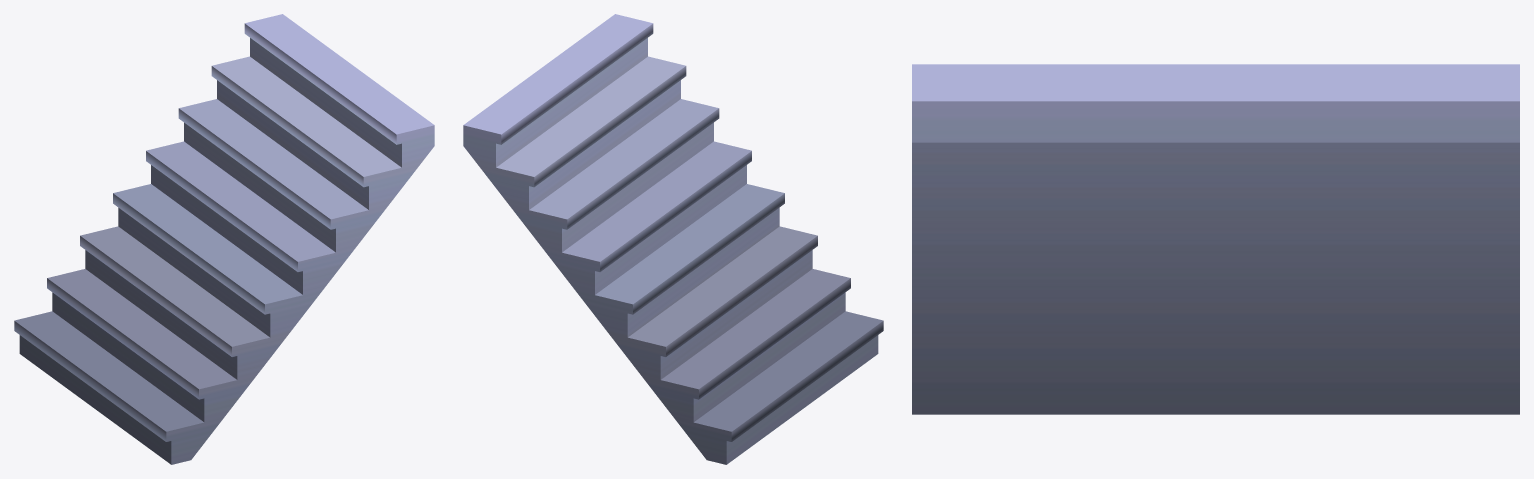
Rendered from stairs-wide-stone.glb.
3 views of the same model, side by side, from view 1: azimuth 30°, elevation 25°; view 2: azimuth 150°, elevation 25°; view 3: azimuth 270°, elevation 25° (orthographic). The views are drawn at different scales.
Parts seen in each view (by area): view 1: stairs-wide-stone; view 2: stairs-wide-stone; view 3: stairs-wide-stone.
Boxes of the visible parts, bbox=[...] form: stairs-wide-stone: bbox=[14, 14, 434, 464]; stairs-wide-stone: bbox=[463, 14, 883, 464]; stairs-wide-stone: bbox=[912, 64, 1519, 414].
Bounding box in the file's own units: 1.02 × 1 × 1.
1 material, 1 textured.
